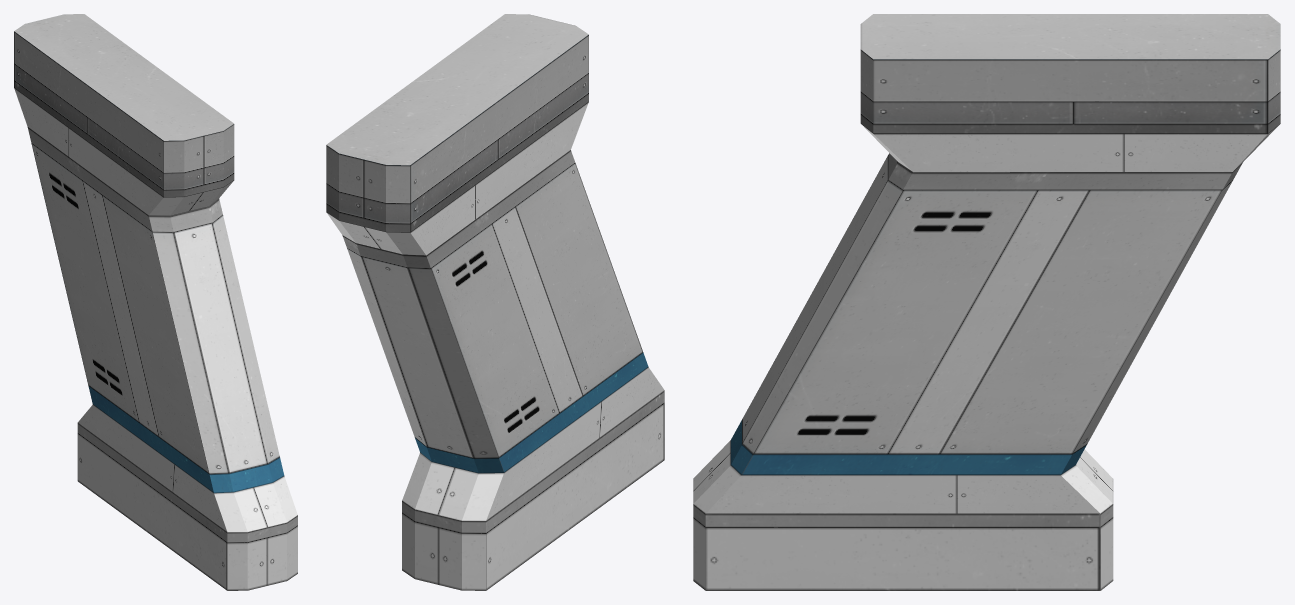
File: Column_01.FBX
The picture shows the model from 3 angles, left to right: view 1: azimuth 30°, elevation 25°; view 2: azimuth 150°, elevation 25°; view 3: azimuth 270°, elevation 25°; orthographic projection. The views are drawn at different scales.
Parts seen in each view (by area): view 1: Column_01; view 2: Column_01; view 3: Column_01.
Boxes of the visible parts, x1,y1,x2,y2 form: Column_01: (14,14,297,590); Column_01: (326,14,664,590); Column_01: (693,14,1280,590).
Bounding box in the file's own units: 25.59 × 140 × 140.
